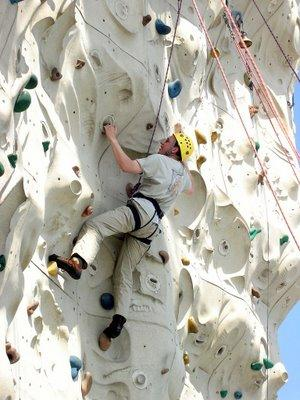person: (48, 123, 194, 340)
